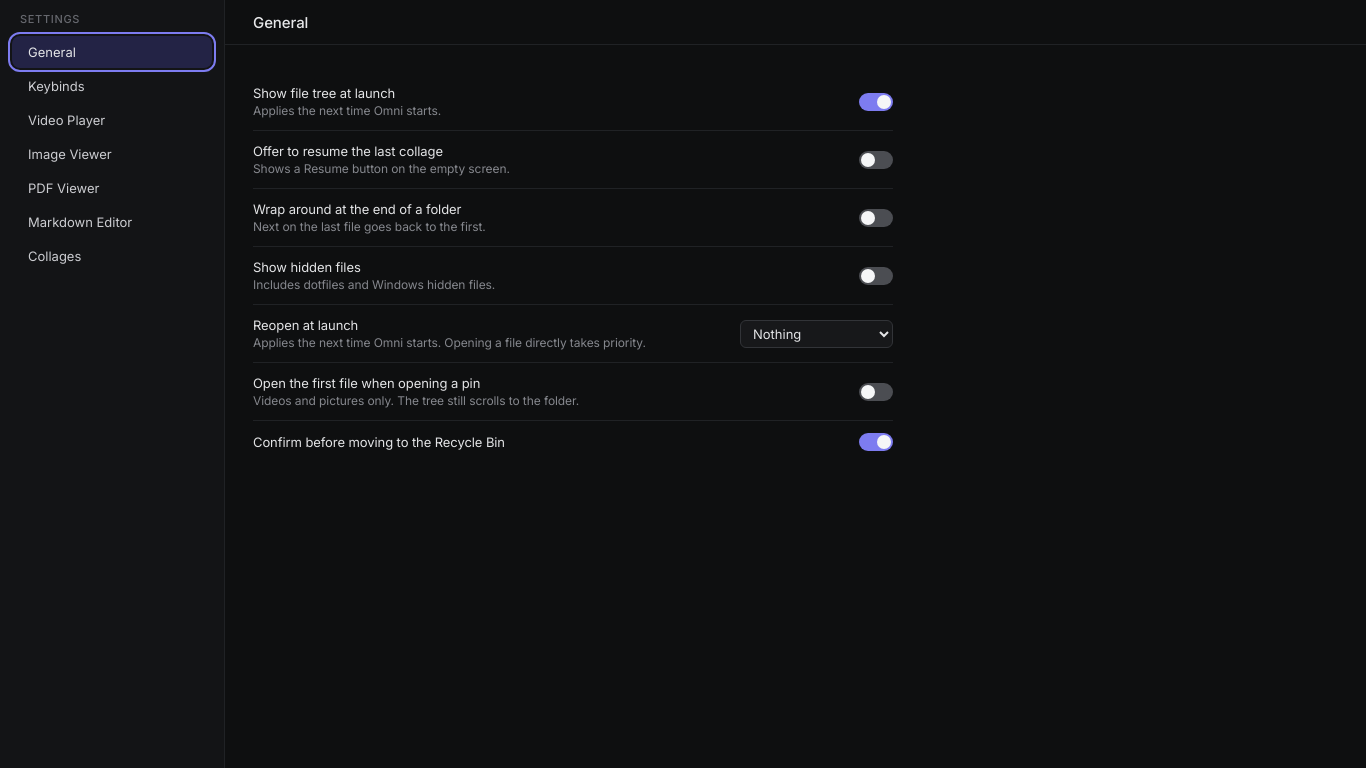
Test: SettingsModal › clicking a section swaps the page and records the selection
The width and height of the screenshot is (1366, 768).
Expected: the 1st text "General" is shown, [253,12,308,32]
Step 1. Click the button with class "nav-item" showing "Collages" → (112, 256), box [12,240,212,272]
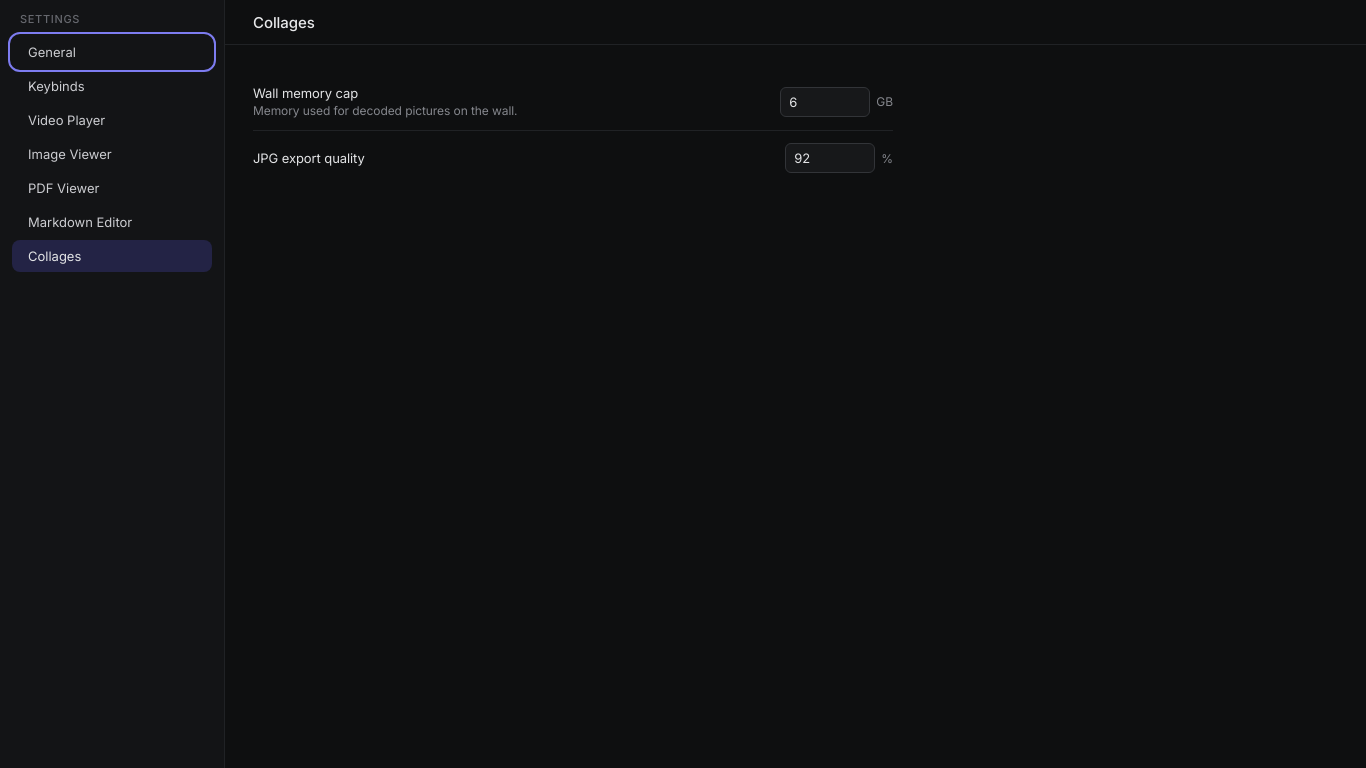
Expected: the 1st text "Collages" is shown, [253,12,315,32]
